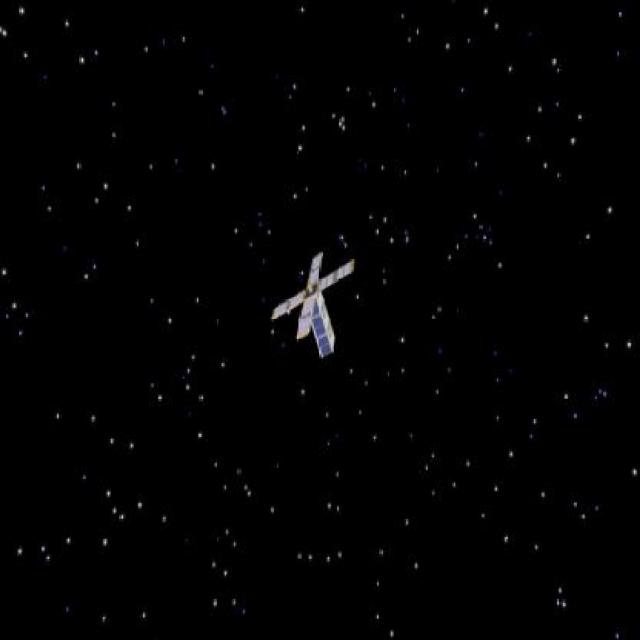medium_debris: (263, 244, 363, 371)
